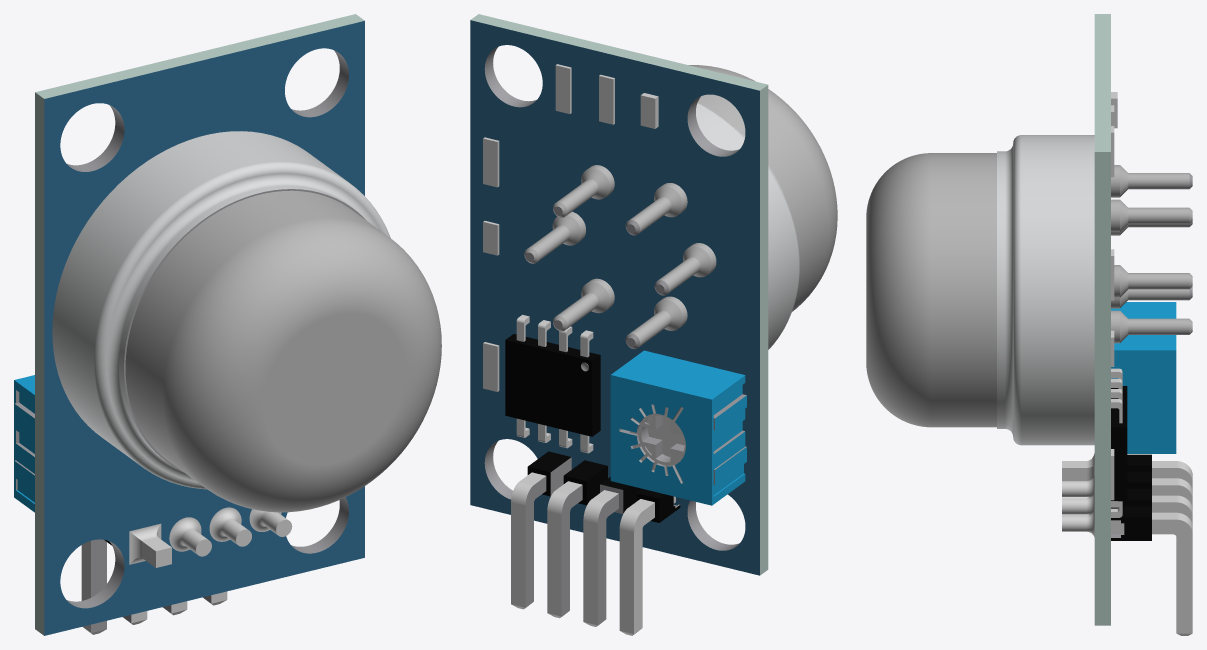
Rendered from Gas Sensor 12.glb.
3 views of the same model, side by side, from view 1: azimuth 30°, elevation 25°; view 2: azimuth 150°, elevation 25°; view 3: azimuth 270°, elevation 25° (orthographic). The views are drawn at different scales.
Visible parts, largest first — view 1: Object_2; view 2: Object_2; view 3: Object_2.
Part boxes in pixels (x1=…): Object_2: x1=14, y1=14, x2=441, y2=635; Object_2: x1=470, y1=14, x2=837, y2=635; Object_2: x1=866, y1=14, x2=1192, y2=635.
Bounding box in the file's own units: 0.02 × 0.0355 × 0.02.
